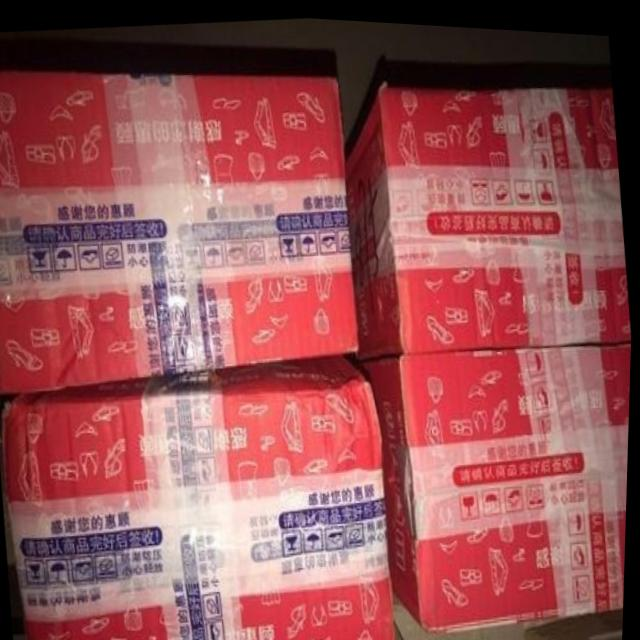box: (0, 346, 397, 640), (0, 75, 360, 392), (360, 331, 633, 631), (344, 79, 631, 359)
